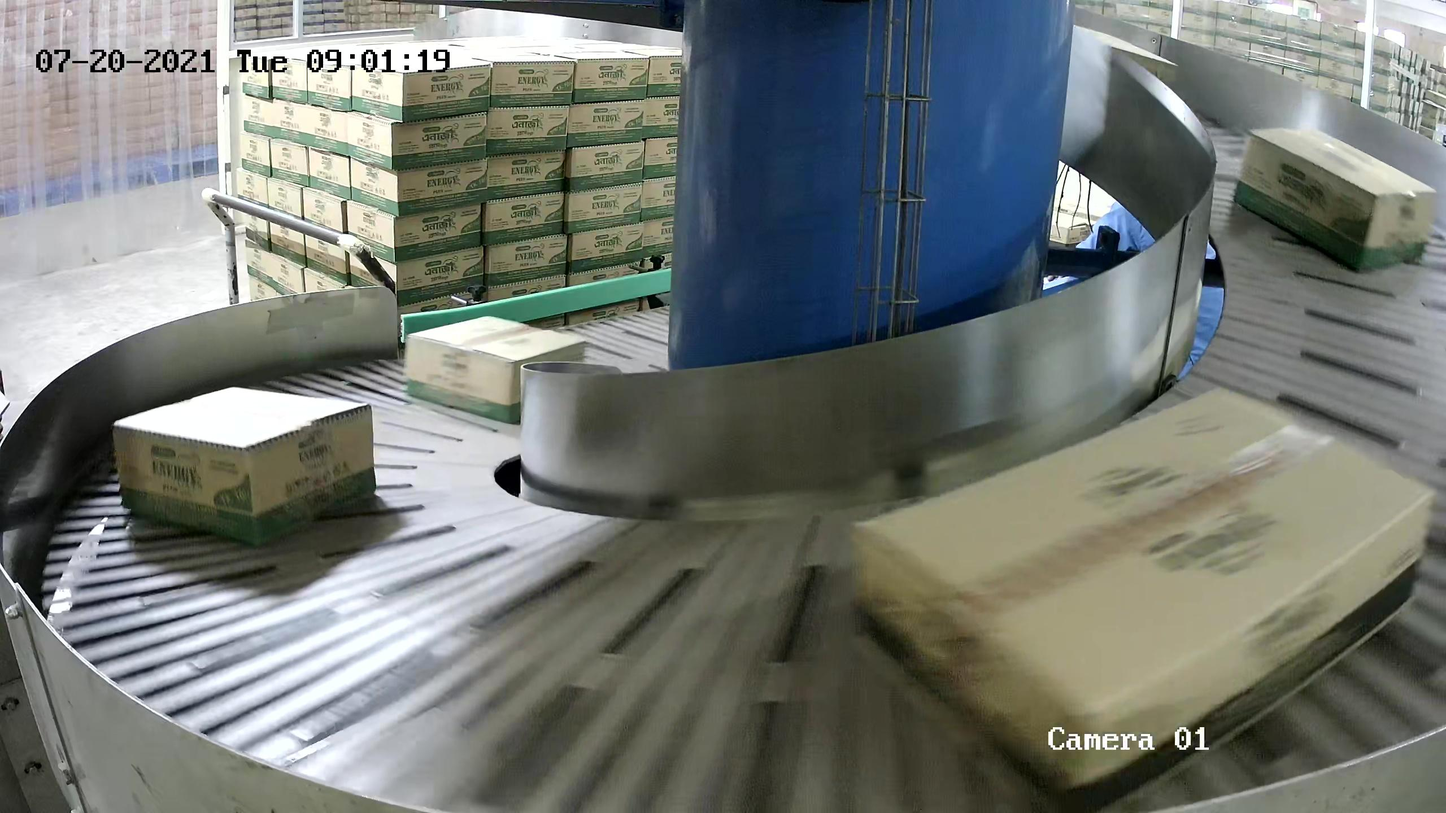Box: (842, 380, 1439, 813), (112, 387, 377, 550), (1233, 126, 1437, 271), (405, 315, 586, 424)
